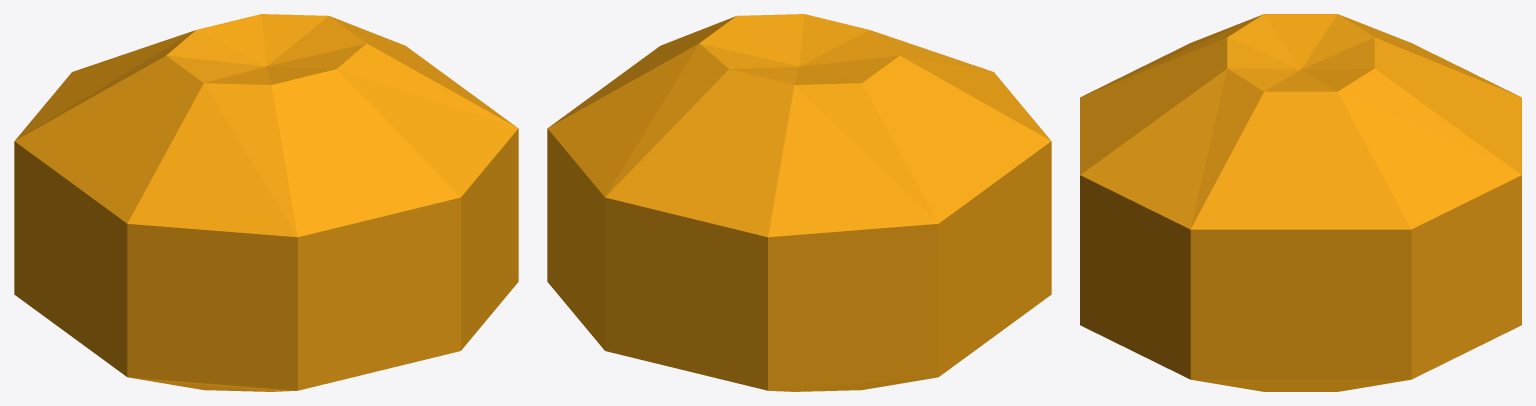
File: inv_orange.obj
3 renders of one model, left to right at view 1: azimuth 30°, elevation 25°; view 2: azimuth 150°, elevation 25°; view 3: azimuth 270°, elevation 25°, orthographic. The views are drawn at different scales.
Size of the model in its own units: 0.1875 by 0.1406 by 0.1875.
